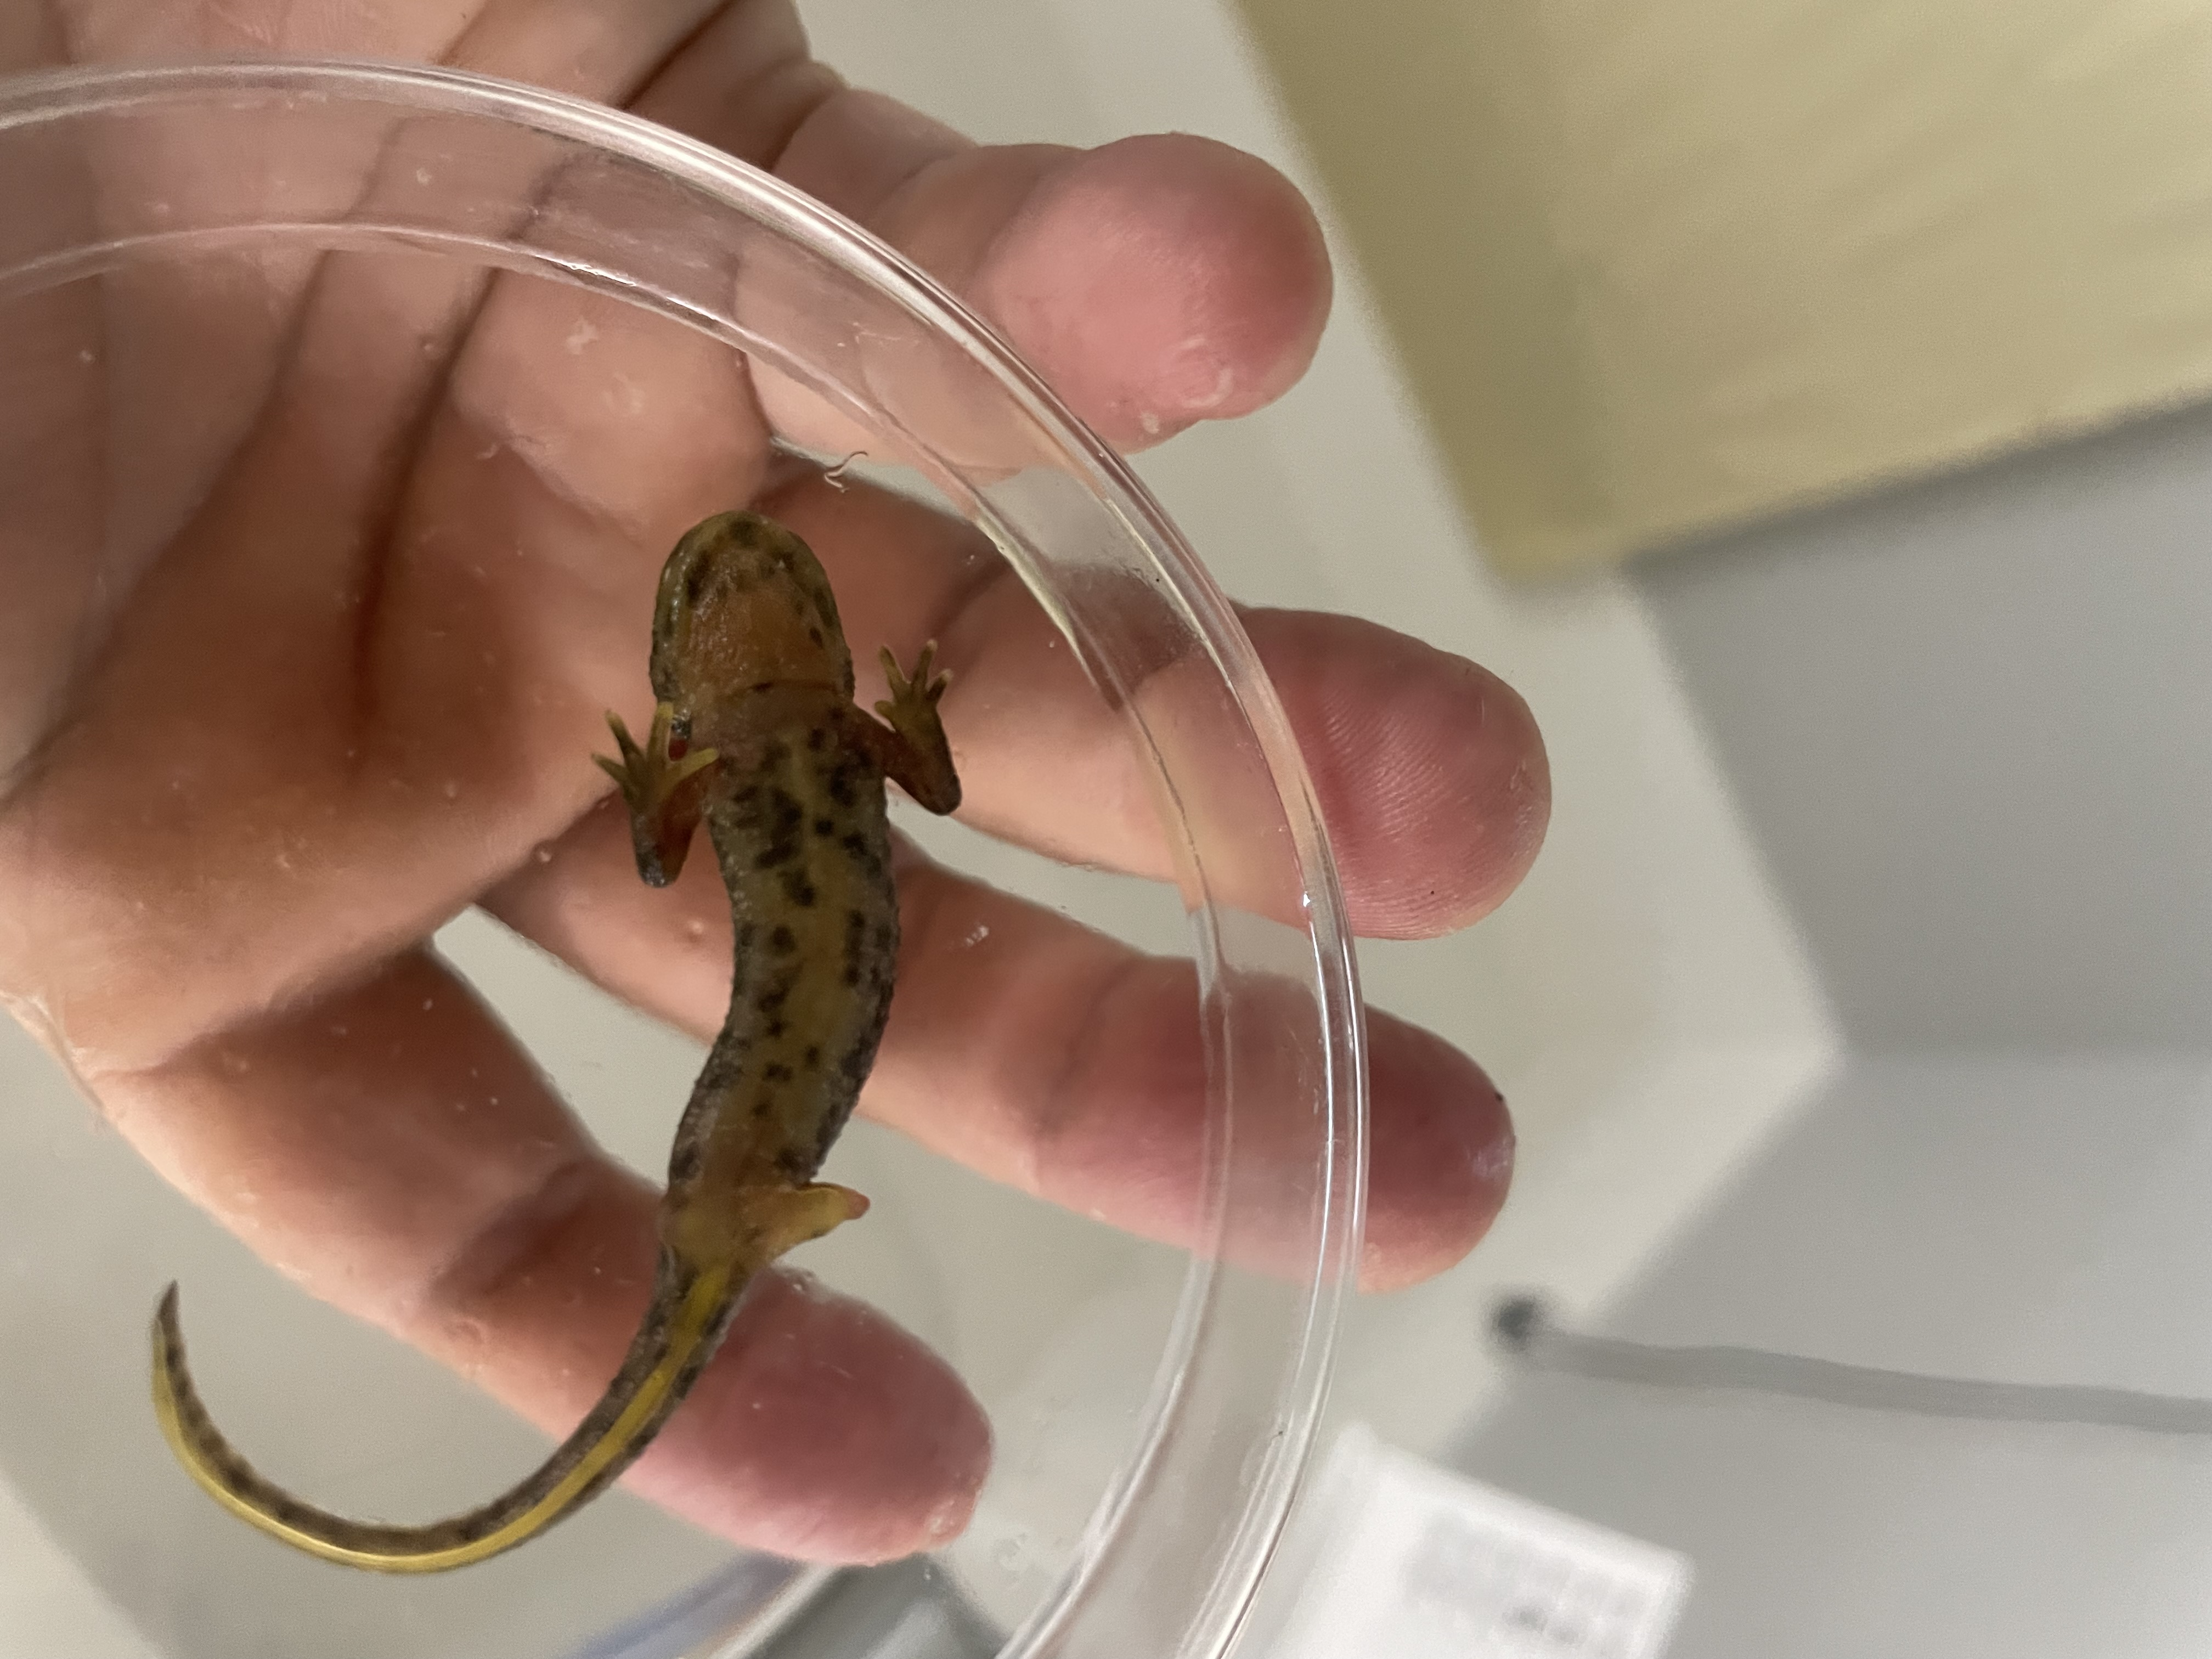newt_ribbed: (669, 775, 900, 1183)
